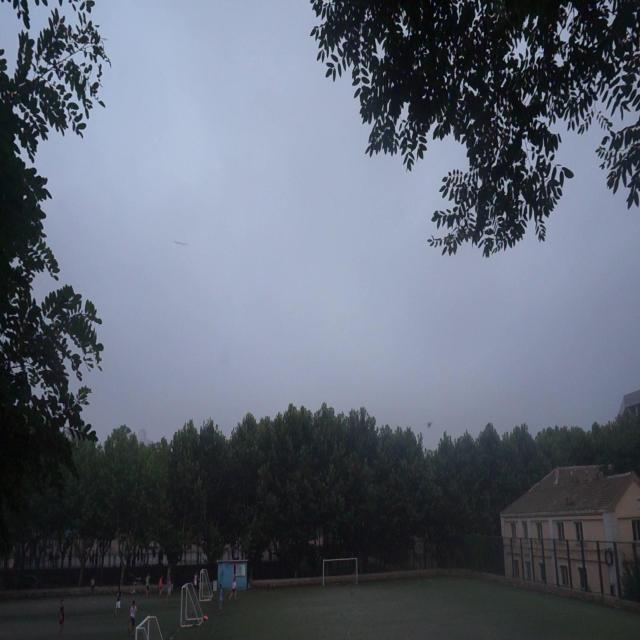drone: (424, 417, 434, 434)
